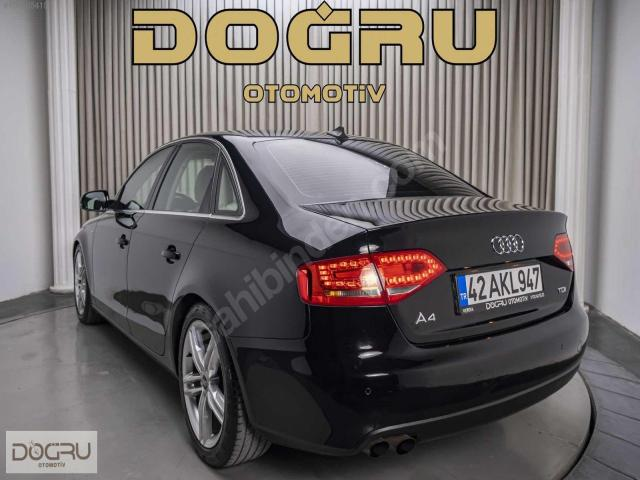plaka: (455, 263, 546, 316)
